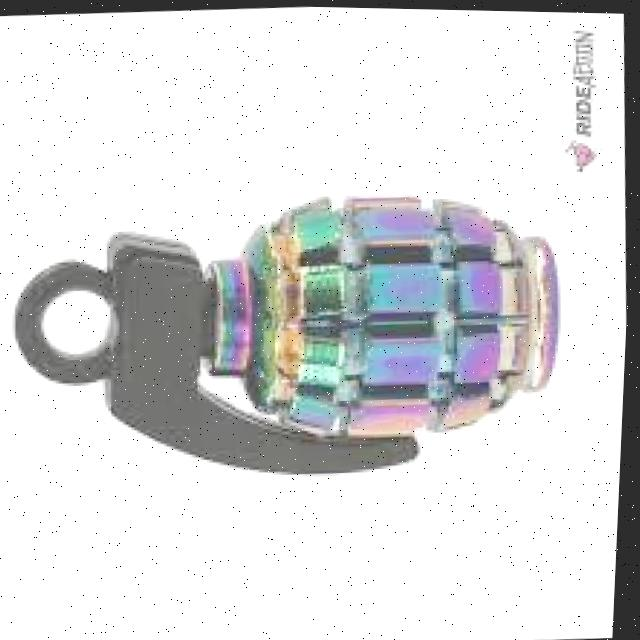grenade: (3, 174, 575, 497)
